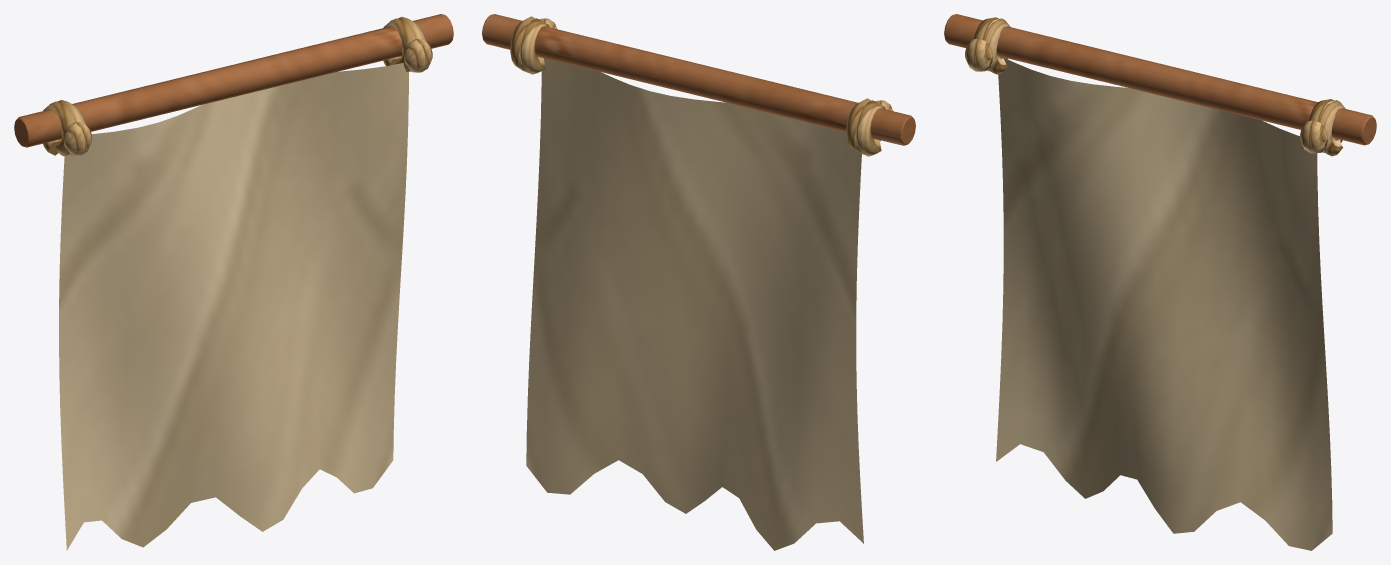
File: SM_Banner_Canvas.glb
3 renders of one model, left to right at view 1: azimuth 30°, elevation 25°; view 2: azimuth 150°, elevation 25°; view 3: azimuth 330°, elevation 25°, orthographic.
Parts seen in each view (by area): view 1: SM_Banner_Canvas; view 2: SM_Banner_Canvas; view 3: SM_Banner_Canvas.
Boxes of the visible parts, <box> form: SM_Banner_Canvas: <box>14,14,453,550</box>; SM_Banner_Canvas: <box>482,14,915,550</box>; SM_Banner_Canvas: <box>944,14,1376,550</box>.
Size of the model in its own units: 1.4 by 1.48 by 0.1971.
1 material, 1 textured.
